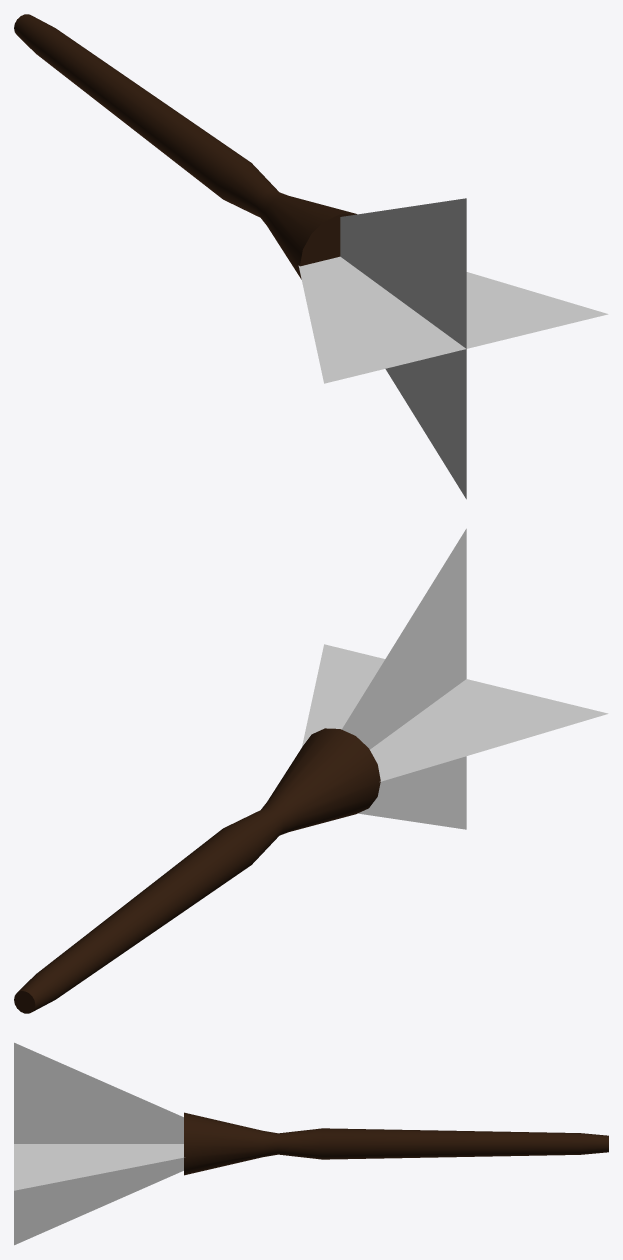
The model's file is FeatherDuster.fbx.
The picture shows the model from 3 angles, top to bottom: view 1: azimuth 30°, elevation 25°; view 2: azimuth 150°, elevation 25°; view 3: azimuth 270°, elevation 25°; orthographic projection. The views are drawn at different scales.
Parts seen in each view (by area): view 1: polySurface8; view 2: polySurface8; view 3: polySurface8.
Boxes of the visible parts, box(x1,y1,x2,y2) form: polySurface8: box(14, 14, 608, 499); polySurface8: box(14, 528, 608, 1013); polySurface8: box(14, 1042, 608, 1245).
Size of the model in its own units: 75.37 by 76.24 by 203.
